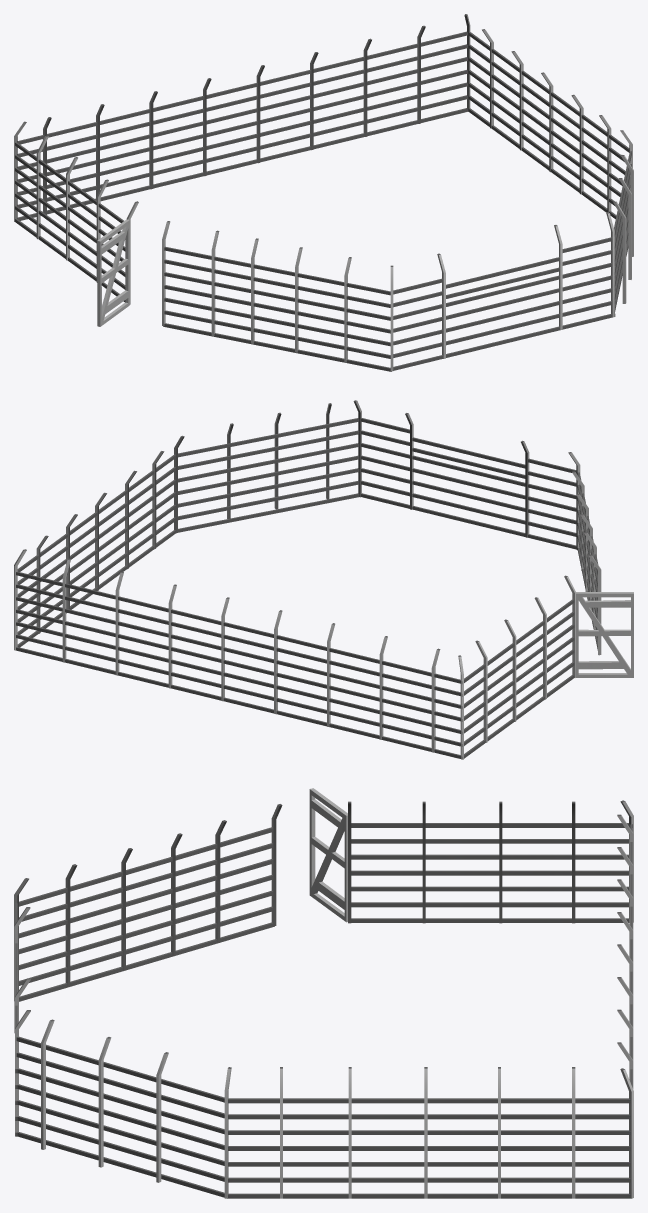
Rendered from unwrapped_Giraffe_enclosure.fbx.
The picture shows the model from 3 angles, top to bottom: view 1: azimuth 30°, elevation 25°; view 2: azimuth 150°, elevation 25°; view 3: azimuth 270°, elevation 25°; orthographic projection. The views are drawn at different scales.
Visible parts, largest first — view 1: Gate, enclosure fence013, enclosure fence012, enclosure fence011, enclosure fence010, enclosure fence009, enclosure fence008, enclosure fence007, enclosure fence037, enclosure fence003, enclosure fence, enclosure fence004 (+22 smaller); view 2: Gate, enclosure fence010, enclosure fence013, enclosure fence009, enclosure fence012, enclosure fence008, enclosure fence011, enclosure fence007, enclosure fence001, enclosure fence002, enclosure fence004, enclosure fence003 (+24 smaller); view 3: Gate, enclosure fence026, enclosure fence021, enclosure fence022, enclosure fence027, enclosure fence023, enclosure fence024, enclosure fence025, enclosure fence015, enclosure fence017, enclosure fence018, enclosure fence016 (+27 smaller).
Boxes of the visible parts, x1=… form: Gate: x1=97, y1=219, x2=129, y2=326; enclosure fence013: x1=17, y1=31, x2=467, y2=144; enclosure fence012: x1=17, y1=44, x2=467, y2=157; enclosure fence011: x1=17, y1=57, x2=467, y2=169; enclosure fence010: x1=17, y1=70, x2=467, y2=182; enclosure fence009: x1=17, y1=82, x2=467, y2=195; enclosure fence008: x1=17, y1=95, x2=467, y2=208; enclosure fence007: x1=17, y1=108, x2=467, y2=220; enclosure fence037: x1=163, y1=323, x2=391, y2=371; enclosure fence003: x1=393, y1=275, x2=615, y2=332; enclosure fence: x1=393, y1=313, x2=615, y2=370; enclosure fence004: x1=393, y1=262, x2=615, y2=319; Gate: x1=576, y1=592, x2=633, y2=677; enclosure fence010: x1=16, y1=609, x2=460, y2=721; enclosure fence013: x1=16, y1=571, x2=460, y2=683; enclosure fence009: x1=16, y1=622, x2=460, y2=733; enclosure fence012: x1=16, y1=584, x2=460, y2=696; enclosure fence008: x1=16, y1=634, x2=460, y2=746; enclosure fence011: x1=16, y1=597, x2=460, y2=708; enclosure fence007: x1=16, y1=647, x2=460, y2=758; enclosure fence001: x1=361, y1=480, x2=576, y2=536; enclosure fence002: x1=361, y1=468, x2=576, y2=524; enclosure fence004: x1=361, y1=443, x2=576, y2=499; enclosure fence003: x1=361, y1=455, x2=576, y2=511; Gate: x1=309, y1=788, x2=347, y2=922; enclosure fence026: x1=228, y1=1114, x2=630, y2=1119; enclosure fence021: x1=228, y1=1193, x2=630, y2=1198; enclosure fence022: x1=228, y1=1177, x2=630, y2=1182; enclosure fence027: x1=228, y1=1098, x2=630, y2=1103; enclosure fence023: x1=228, y1=1162, x2=630, y2=1166; enclosure fence024: x1=228, y1=1146, x2=630, y2=1150; enclosure fence025: x1=228, y1=1130, x2=630, y2=1134; enclosure fence015: x1=351, y1=902, x2=629, y2=907; enclosure fence017: x1=351, y1=870, x2=629, y2=875; enclosure fence018: x1=351, y1=854, x2=629, y2=859; enclosure fence016: x1=351, y1=886, x2=629, y2=891.
Size of the model in its own units: 48.99 by 9.45 by 42.18.
